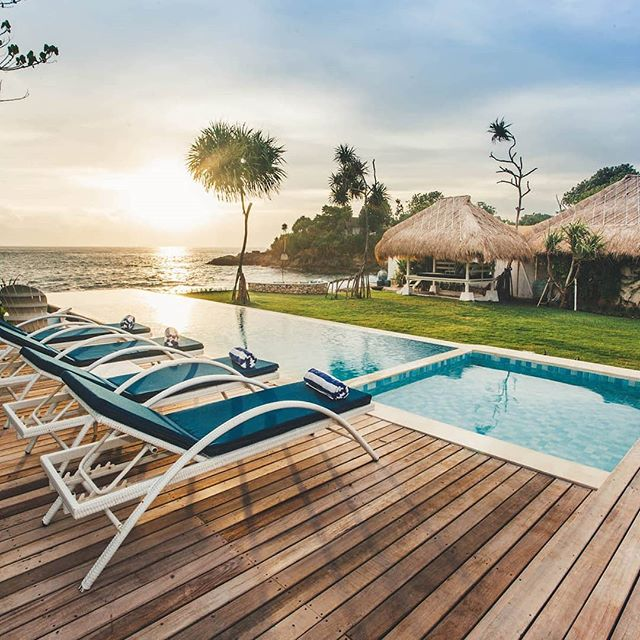chair: (46, 373, 396, 568), (1, 333, 276, 435)
grass: (308, 290, 640, 367)
pool: (376, 339, 640, 490), (55, 284, 442, 385)
sea: (1, 242, 232, 287)
sky: (14, 1, 631, 186)
sun: (125, 154, 200, 234)
tent: (369, 189, 531, 297), (530, 172, 640, 300)
tree: (187, 124, 299, 306)
